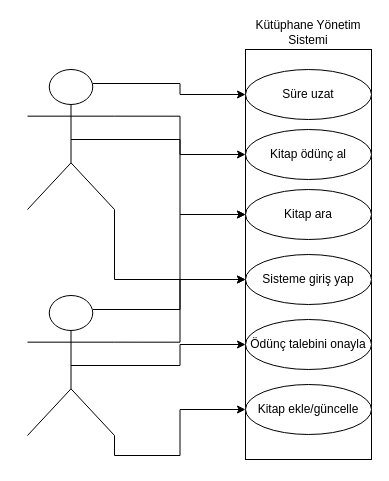
This 389x481 diagram has some shape labels left out. The shapes that lost their labels are listed below. From the top down, each one's centre as x and y in pixels, then its label:
(x=70, y=139): Üye
(x=70, y=365): Kütüphane Görevlisi
